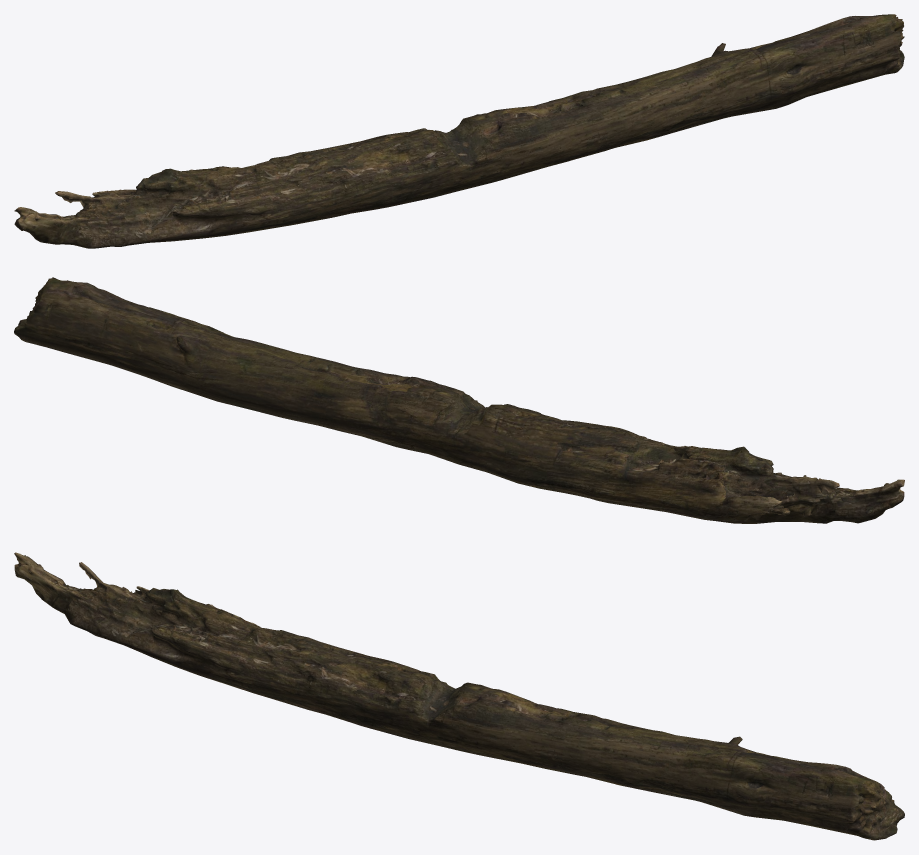
Rendered from dead_tree_trunk.gltf.
The picture shows the model from 3 angles, top to bottom: view 1: azimuth 30°, elevation 25°; view 2: azimuth 150°, elevation 25°; view 3: azimuth 330°, elevation 25°; orthographic projection.
Parts seen in each view (by area): view 1: dead_tree_trunk; view 2: dead_tree_trunk; view 3: dead_tree_trunk.
Part boxes in pixels (left/top/right/bottom): dead_tree_trunk: left=14, top=14, right=904, bottom=248; dead_tree_trunk: left=14, top=277, right=904, bottom=523; dead_tree_trunk: left=14, top=552, right=904, bottom=840.
Bounding box in the file's own units: 3.05 × 0.2904 × 0.2775.
1 material, 1 textured.
